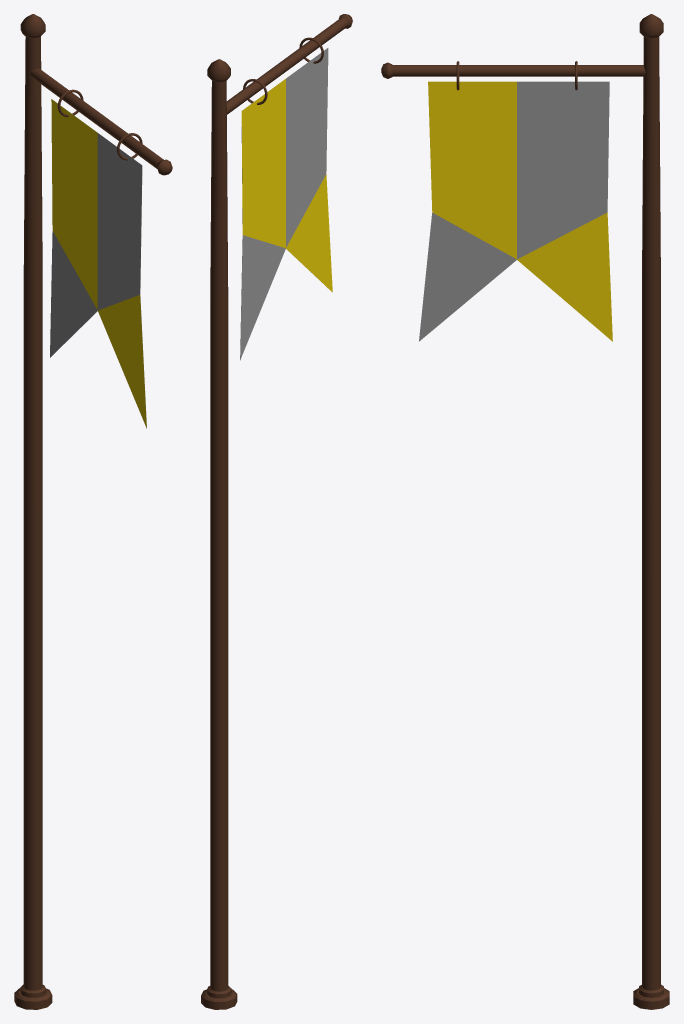
File: Flag_white_yellow.obj
3 renders of one model, left to right at view 1: azimuth 30°, elevation 25°; view 2: azimuth 150°, elevation 25°; view 3: azimuth 270°, elevation 25°, orthographic. The views are drawn at different scales.
Parts seen in each view (by area): view 1: Tube001, Box004, Box003, Box002, Tube002, ChamferCyl002, ChamferCyl003; view 2: Tube001, Box004, Box003, Box002, Tube002, ChamferCyl002, ChamferCyl003; view 3: Box004, Tube001, Box002, Box001, Tube002.
Boxes of the visible parts, <box> form: Tube001: <box>23,36,42,990</box>; Box004: <box>51,99,146,428</box>; Box003: <box>50,102,142,357</box>; Box002: <box>50,176,142,357</box>; Tube002: <box>30,68,163,168</box>; ChamferCyl002: <box>14,988,52,1009</box>; ChamferCyl003: <box>20,14,45,37</box>; Tube001: <box>210,80,228,991</box>; Box004: <box>241,79,332,292</box>; Box003: <box>241,48,328,247</box>; Box002: <box>240,235,285,360</box>; Tube002: <box>226,18,347,114</box>; ChamferCyl002: <box>201,989,237,1009</box>; ChamferCyl003: <box>207,59,230,82</box>; Box004: <box>428,81,612,341</box>; Tube001: <box>642,36,660,990</box>; Box002: <box>517,81,609,259</box>; Box001: <box>419,212,516,341</box>; Tube002: <box>392,65,645,76</box>.
Bounding box in the file's own units: 2.58 × 73.53 × 19.44.
